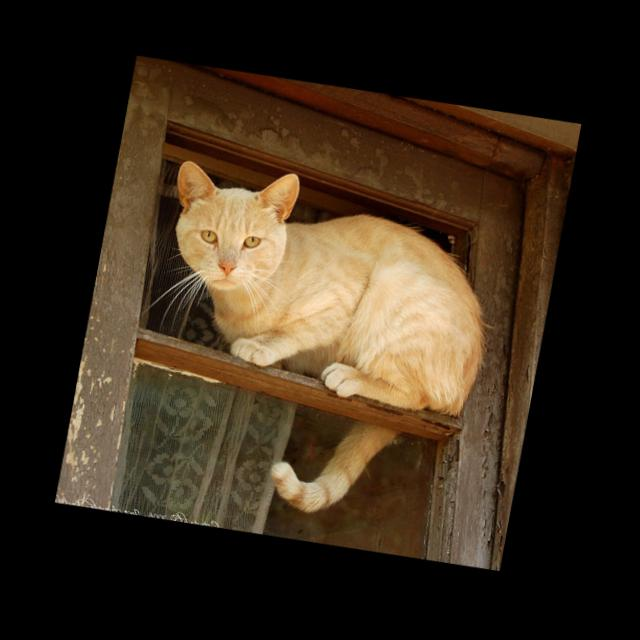animals: (168, 157, 294, 284)
